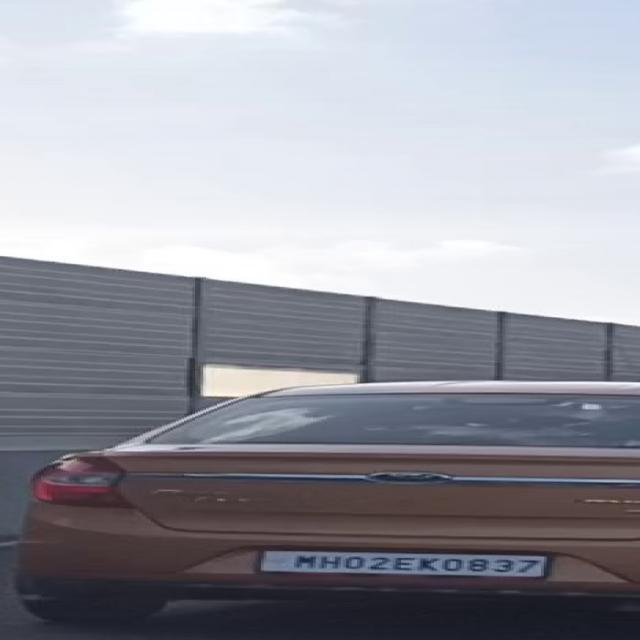Plate: (257, 547, 551, 581)
